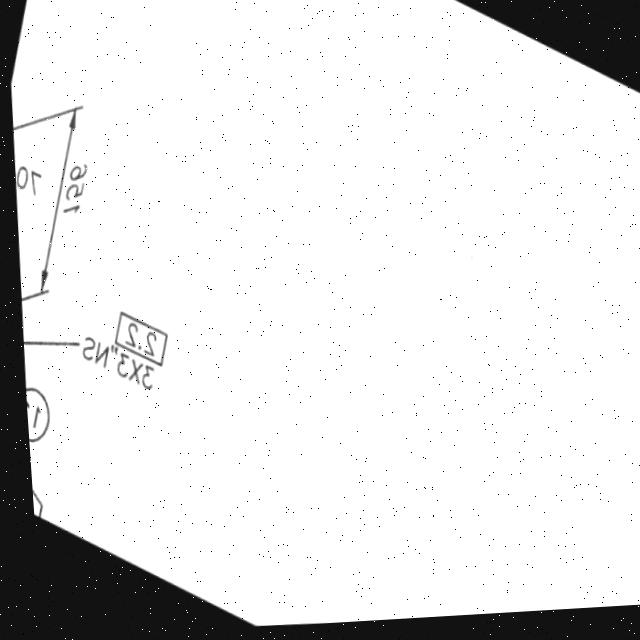Item number: (108, 306, 164, 370), (25, 481, 35, 517)
Measrement: (26, 97, 92, 299), (11, 147, 40, 201)
Weld number: (20, 380, 45, 445)
